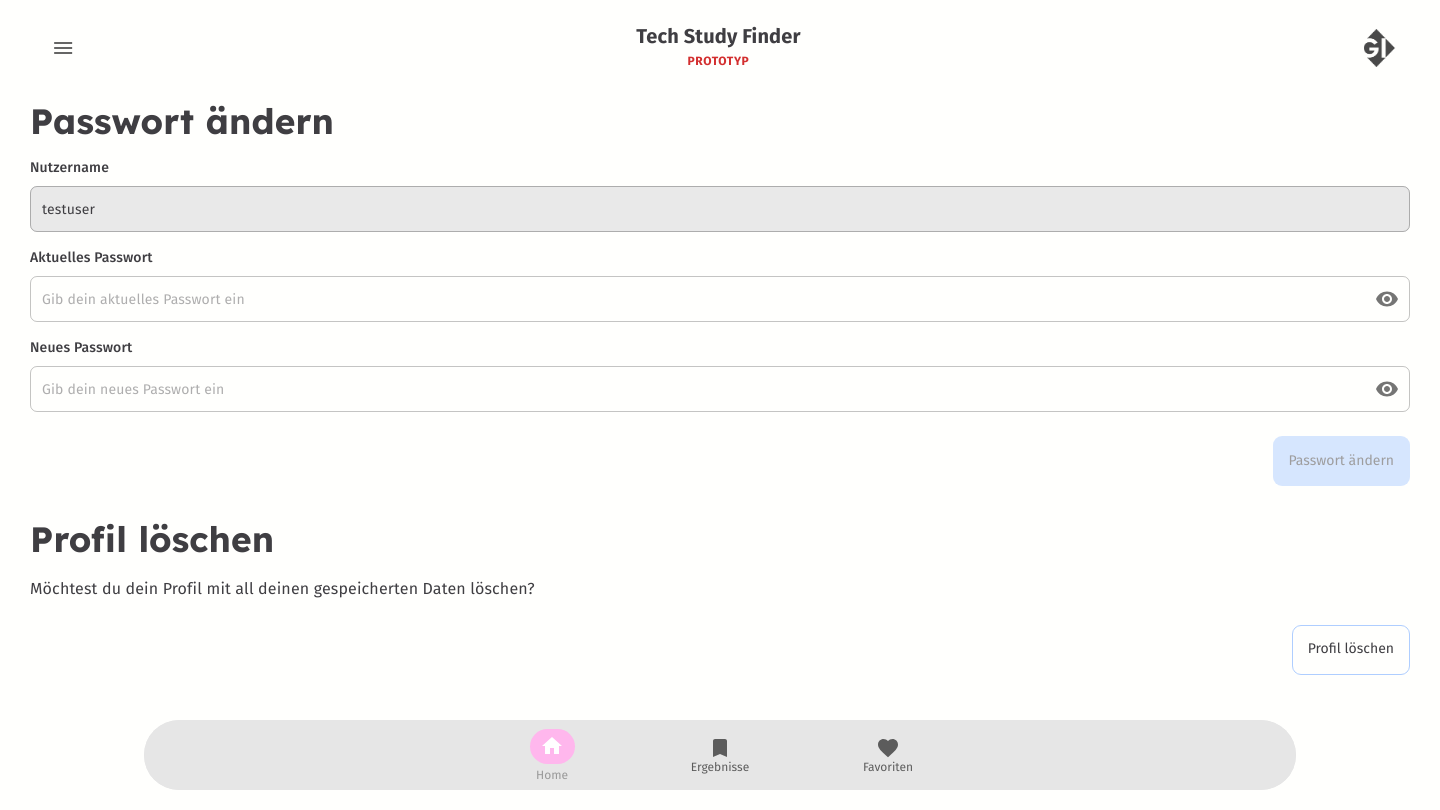
it: Settings Page › validates new password before submission
This screenshot has width=1440, height=810.
Type "oldpass" into the password field with placeholder "Gib dein aktuelles Passwort ein". click: (696, 299)
box: [30,281,1362,317]
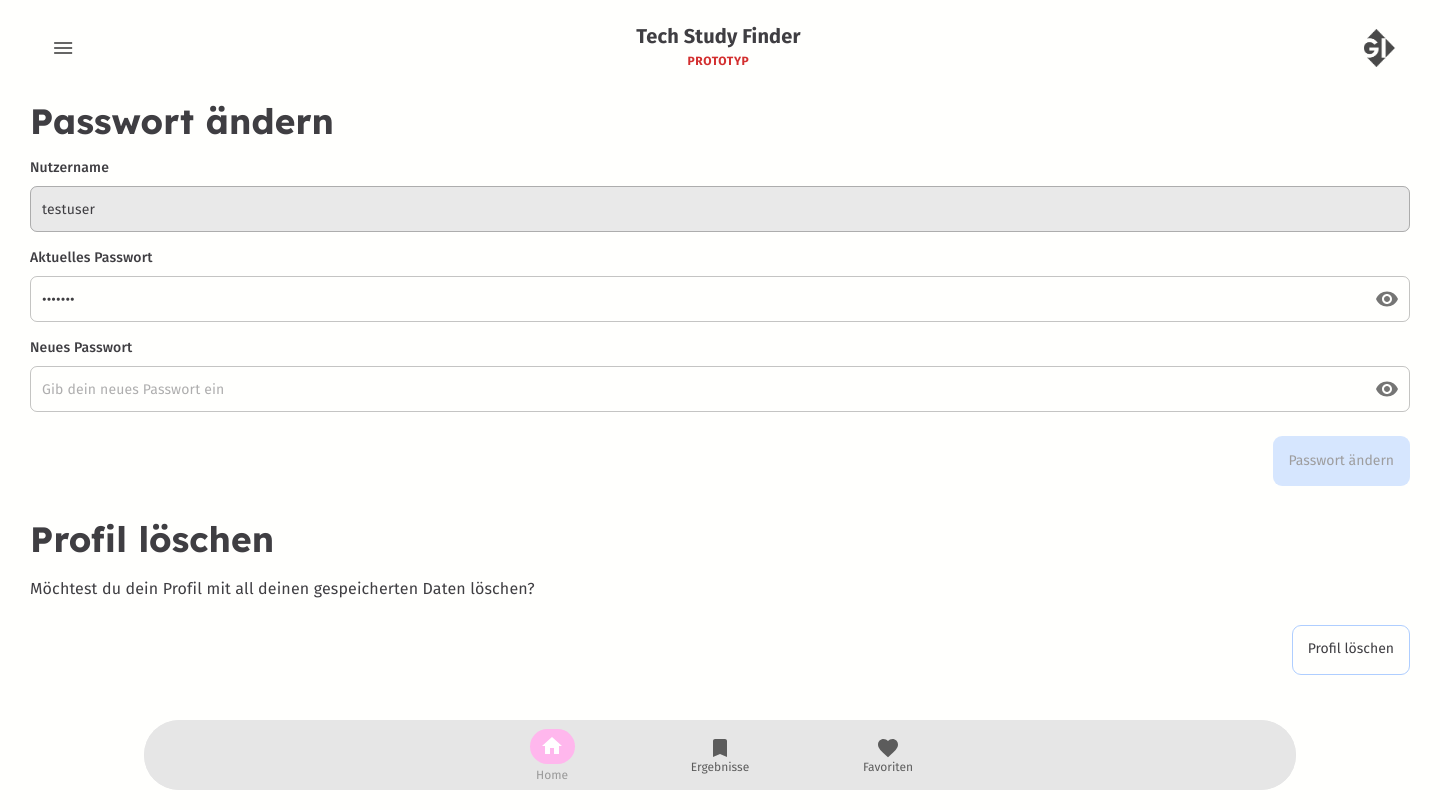
Type "123" into the password field with placeholder "Gib dein neues Passwort ein". click: (696, 389)
box: [30,371,1362,407]
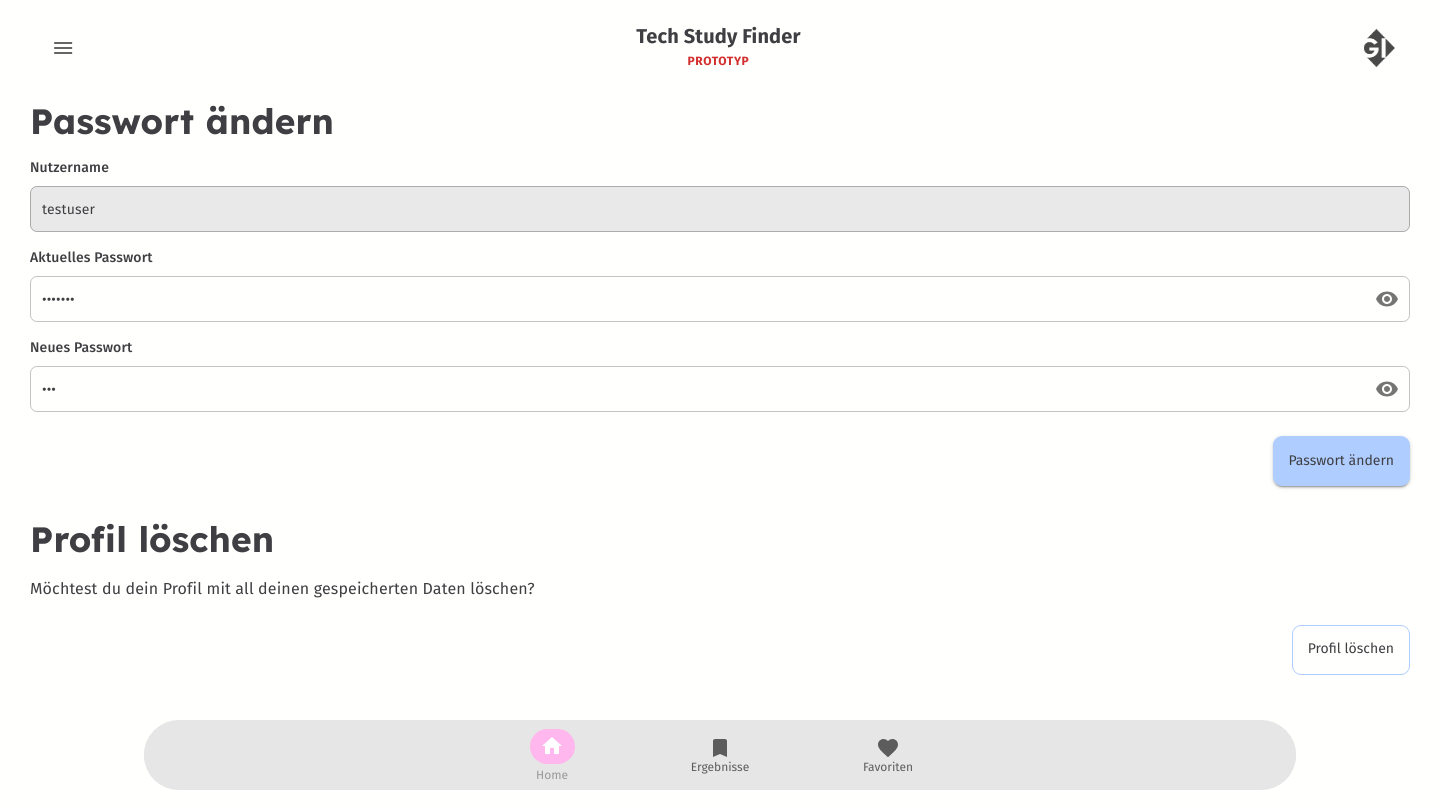
Click the button "Passwort ändern". click: (1341, 461)
box: [1272,436,1410,486]
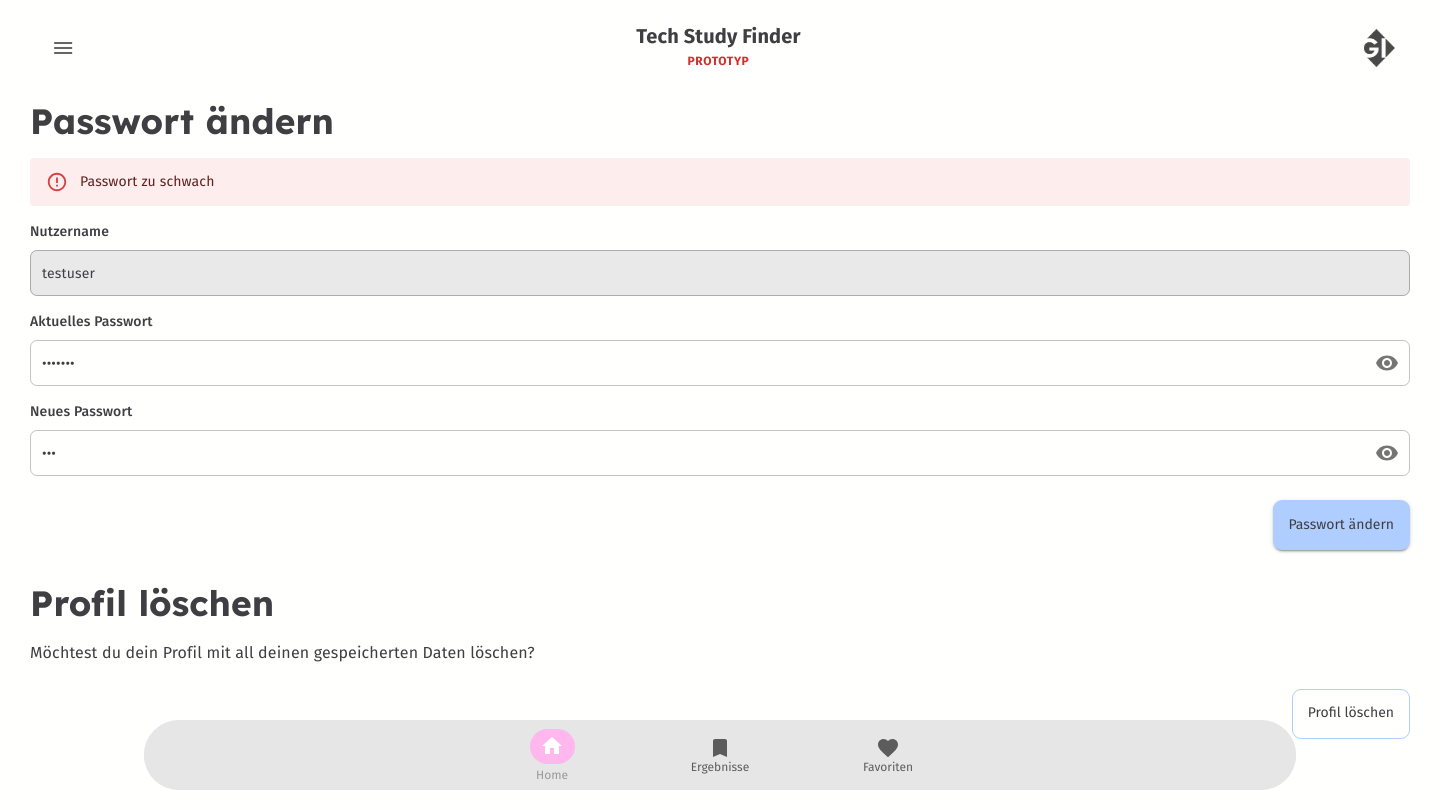
Expected: the text "Passwort zu schwach" is shown, [80,173,215,190]
